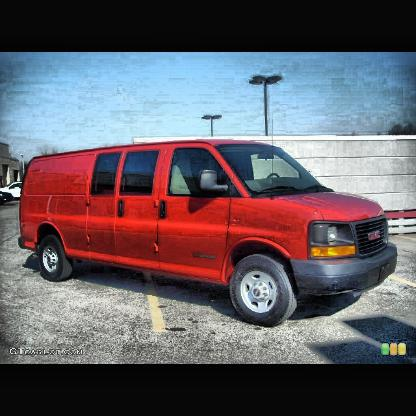GMC Savana Van 2012: (17, 139, 400, 330)
